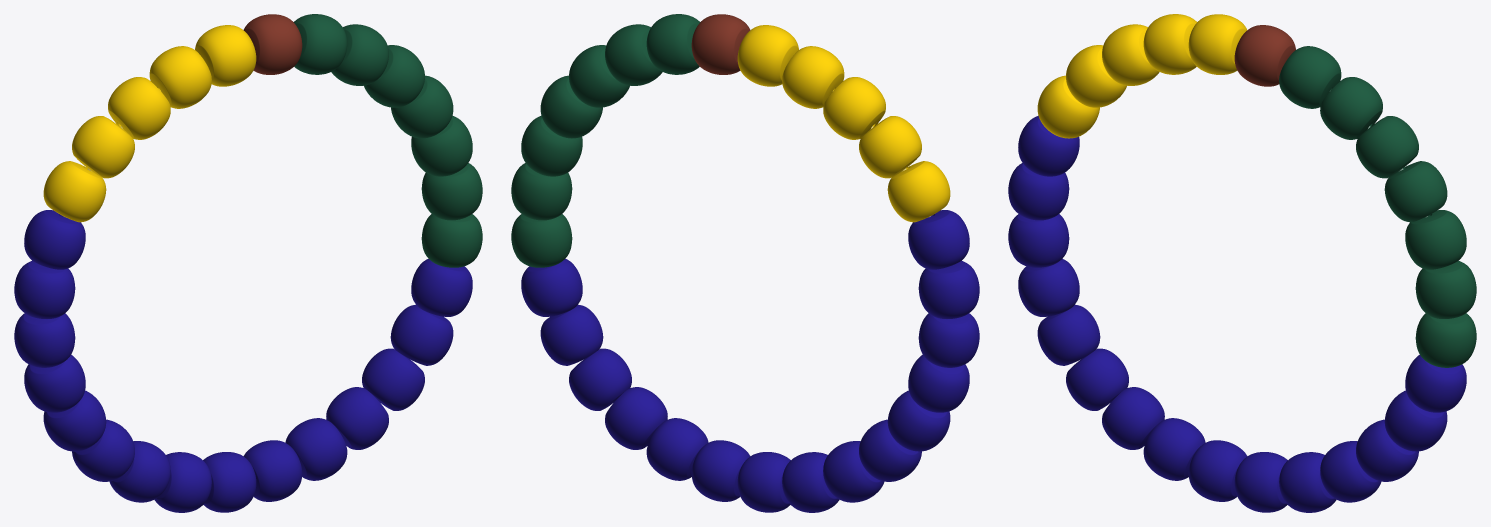
The model's file is diy.glb.
The picture shows the model from 3 angles, left to right: view 1: azimuth 30°, elevation 25°; view 2: azimuth 150°, elevation 25°; view 3: azimuth 330°, elevation 25°; orthographic projection.
Visible parts, largest first — view 1: JewelCAD_2 (×28); view 2: JewelCAD_2 (×28); view 3: JewelCAD_2 (×28).
Boxes of the visible parts, x1=… form: JewelCAD_2 (×28): x1=14, y1=14, x2=482, y2=512; JewelCAD_2 (×28): x1=511, y1=14, x2=979, y2=512; JewelCAD_2 (×28): x1=1008, y1=14, x2=1476, y2=512.
Size of the model in its own units: 0.061 by 0.061 by 0.007.
